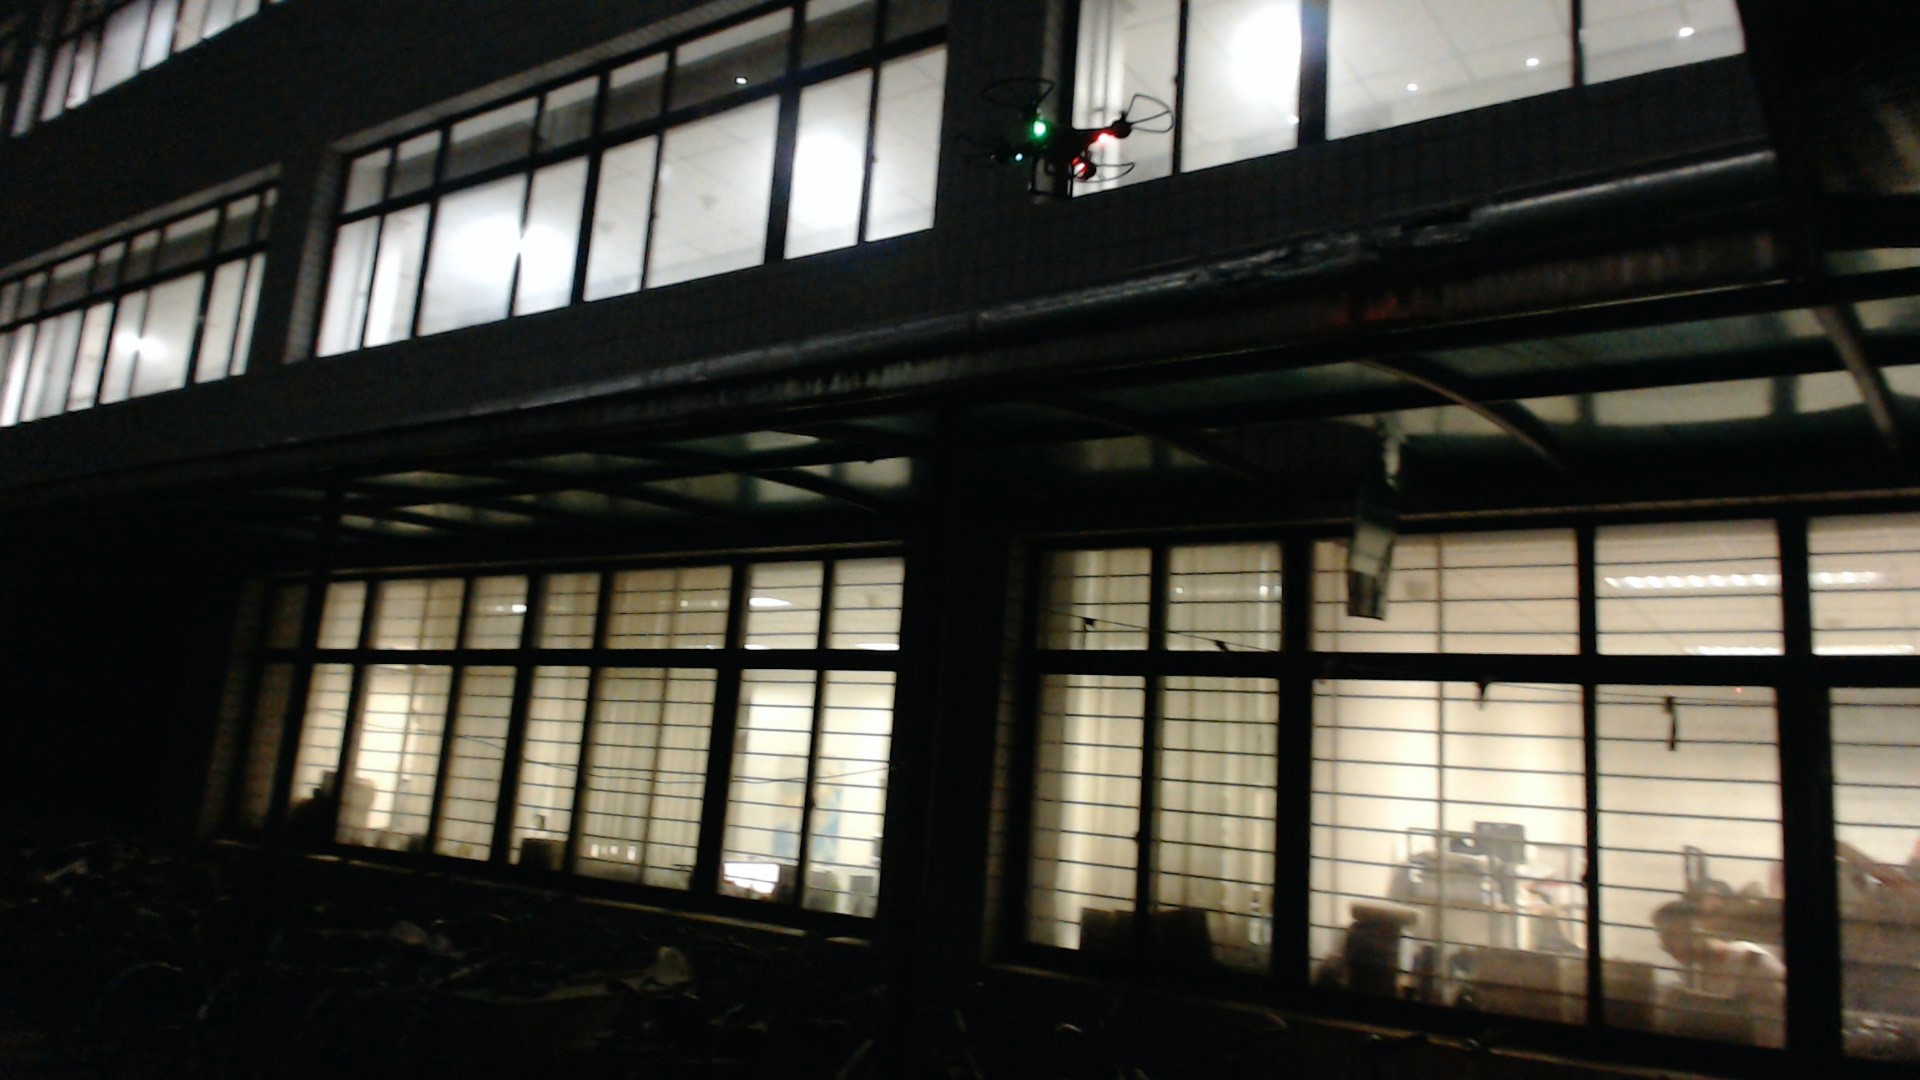test_drone: (947, 73, 1179, 207)
